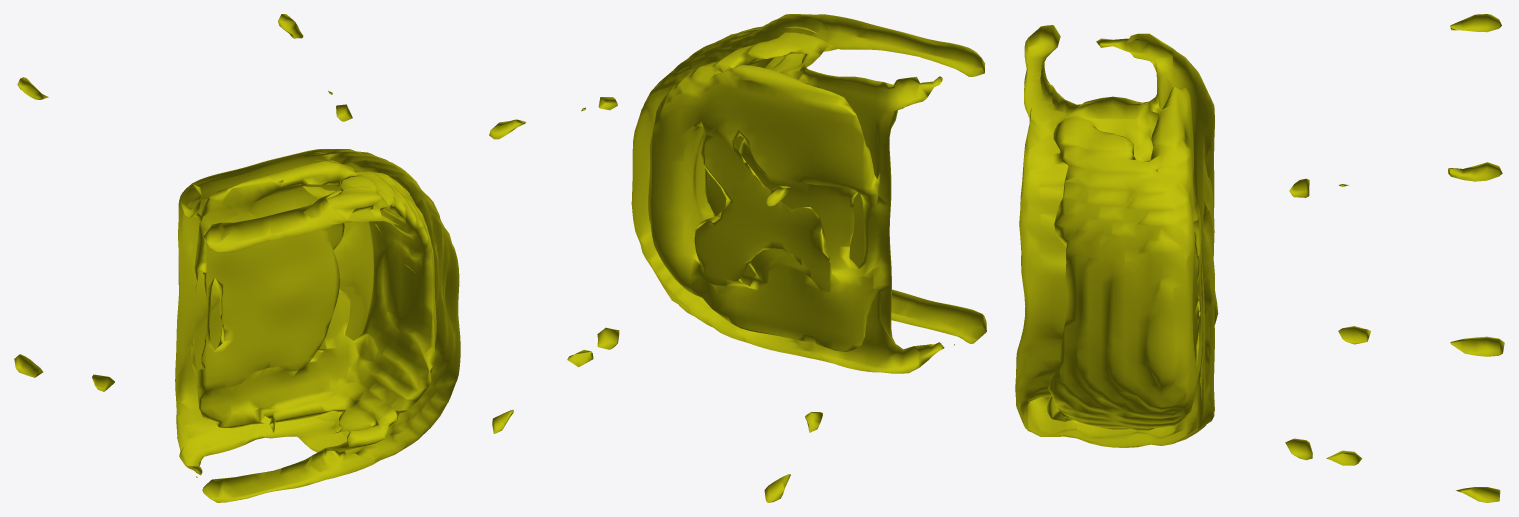
3 renders of one model, left to right at view 1: azimuth 30°, elevation 25°; view 2: azimuth 150°, elevation 25°; view 3: azimuth 270°, elevation 25°, orthographic. The views are drawn at different scales.
Visible parts, largest first — view 1: world; view 2: world; view 3: world.
Part boxes in pixels (x1,y1,x2,y2): world: (14,14,460,502); world: (489,14,986,502); world: (1015,14,1504,502).
Bounding box in the file's own units: 31.06 × 31.35 × 40.57.
